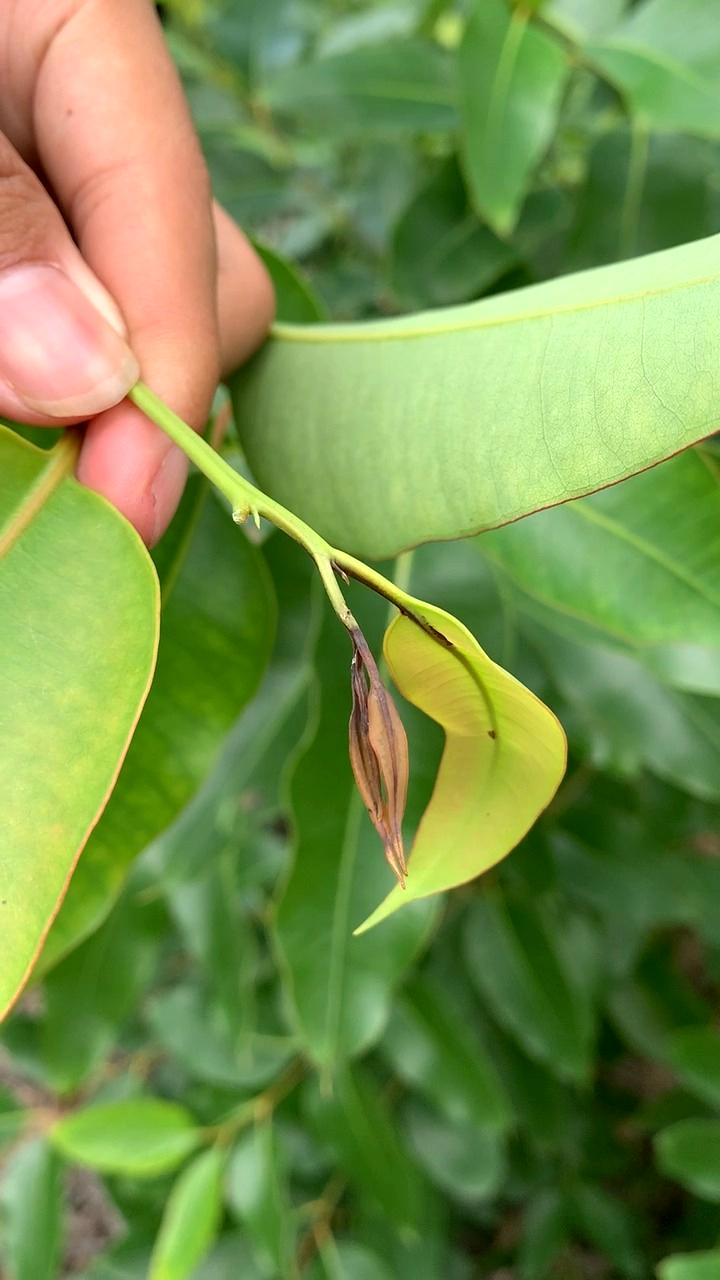Helopeltis-Withered Sprout: (306, 603, 449, 907)
